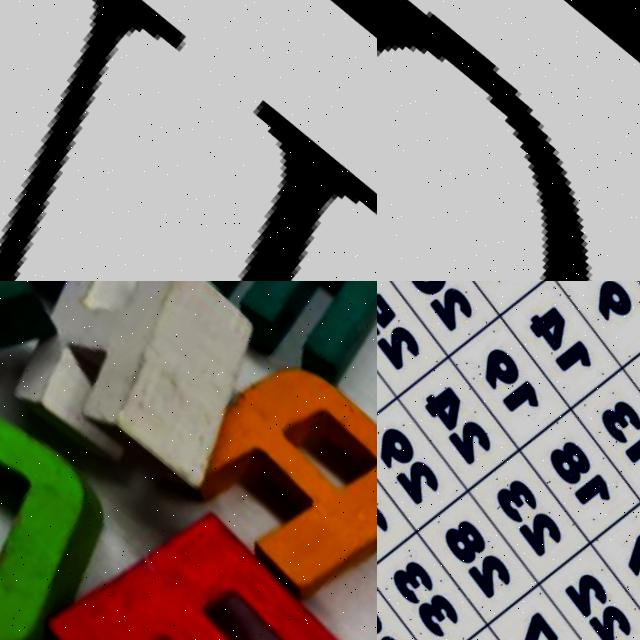0: (388, 281, 464, 308)
1: (565, 463, 633, 529), (496, 372, 557, 432), (549, 335, 609, 393), (616, 421, 640, 486), (473, 281, 535, 297)
2: (556, 560, 630, 631), (388, 449, 461, 519), (463, 543, 533, 611), (441, 411, 509, 476), (512, 503, 579, 567), (377, 314, 437, 383), (421, 281, 490, 340), (581, 594, 640, 640)
3: (381, 546, 455, 617), (483, 467, 555, 535), (410, 583, 477, 640), (587, 387, 640, 453), (377, 490, 410, 559)
4: (407, 370, 489, 449), (513, 292, 588, 365)
5: (377, 281, 412, 348)
7: (506, 600, 578, 640), (607, 520, 640, 594)
8: (432, 508, 506, 577), (537, 428, 610, 497), (377, 589, 405, 640)
9: (467, 338, 535, 403), (377, 415, 435, 486), (575, 281, 640, 342)
C: (0, 339, 160, 640)
G: (377, 0, 640, 281)
H: (0, 281, 303, 516)
M: (156, 281, 377, 402)
R: (149, 328, 377, 636)
T: (0, 281, 213, 329)
U: (0, 0, 377, 281)
